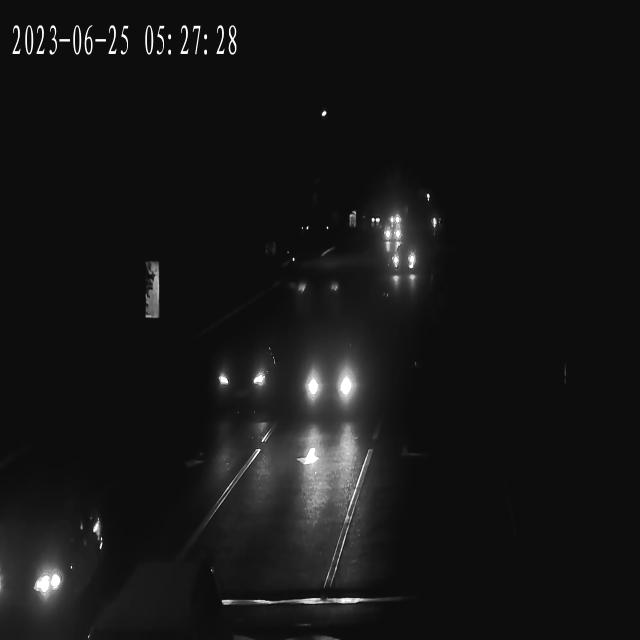Car: (1, 490, 99, 640), (301, 342, 370, 427), (214, 336, 277, 414), (388, 246, 418, 284), (387, 200, 402, 233), (382, 226, 399, 245)
